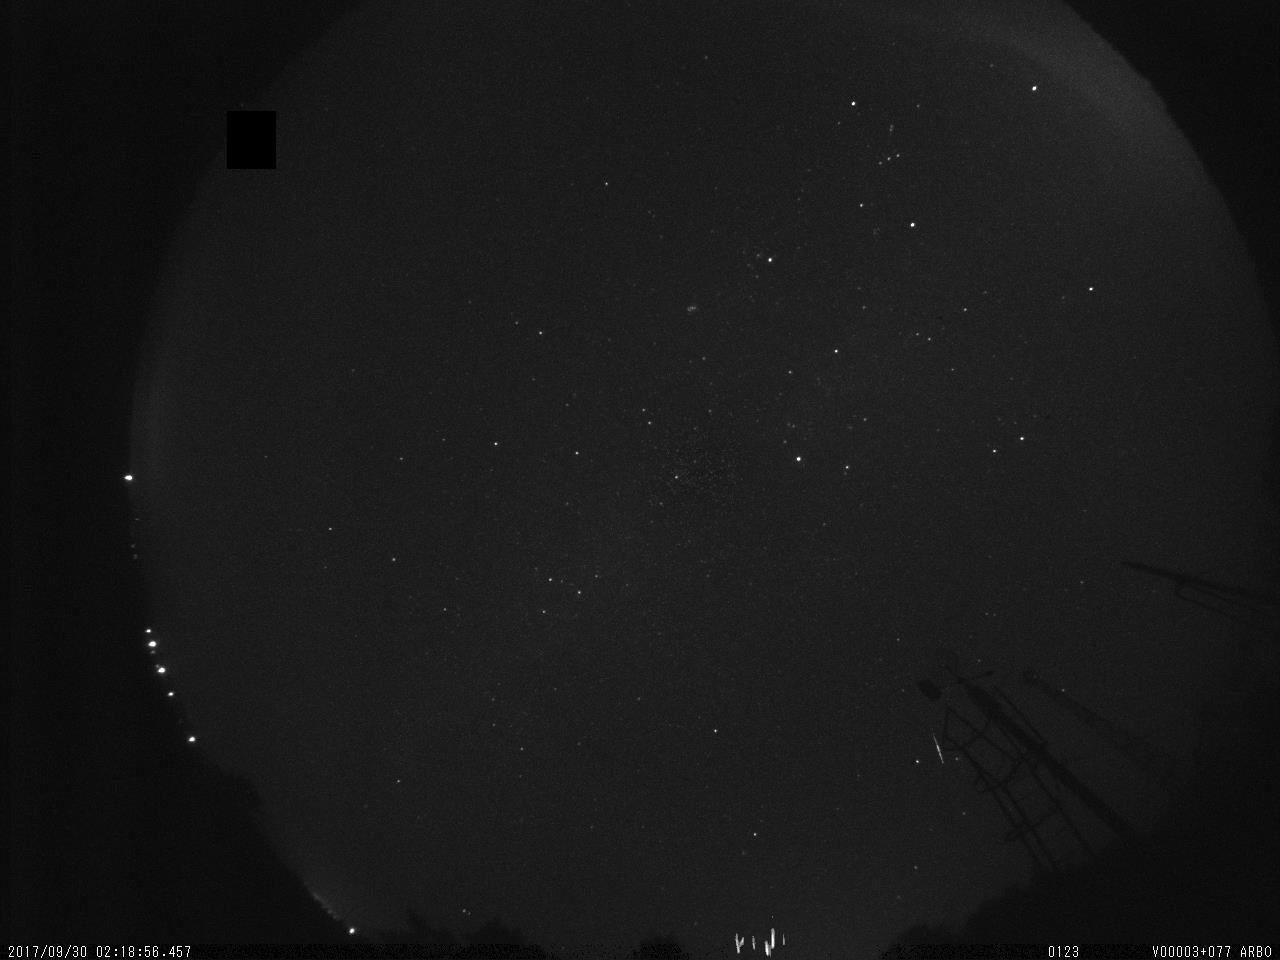TLE: (719, 901, 818, 960)
